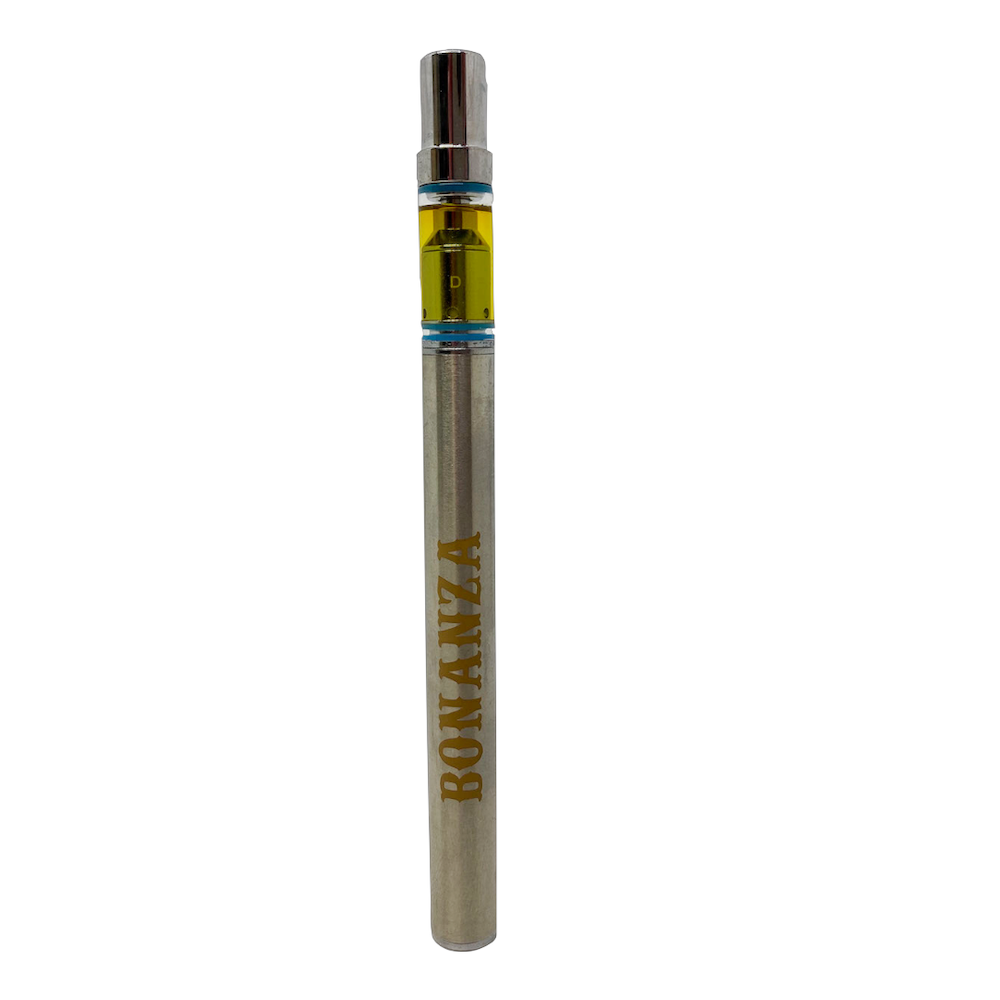weed_pen: (3, 41, 365, 639)
